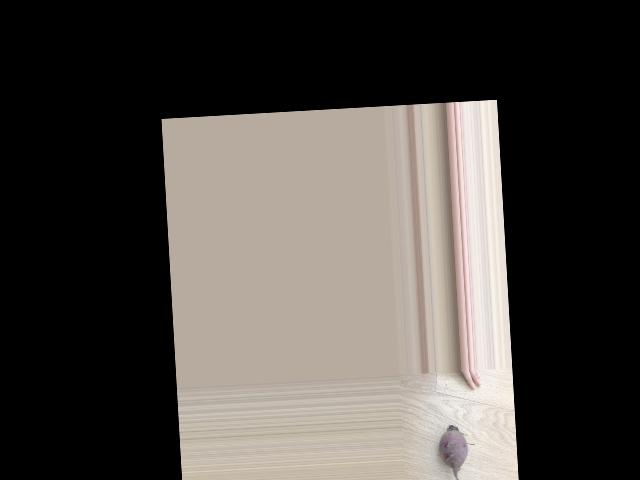beet: (438, 424, 477, 480)
